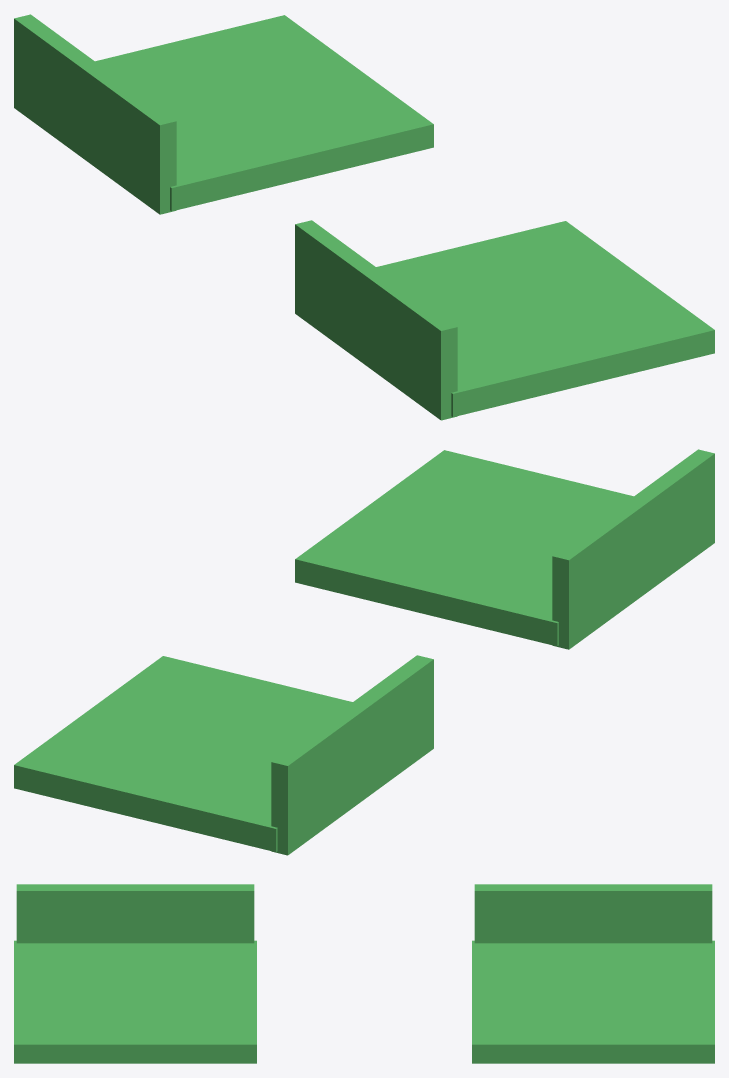
File: bridge_wood_broken_collision.glb
The picture shows the model from 3 angles, top to bottom: view 1: azimuth 30°, elevation 25°; view 2: azimuth 150°, elevation 25°; view 3: azimuth 270°, elevation 25°; orthographic projection. The views are drawn at different scales.
Visible parts, largest first — view 1: bridge_wood_broken_south_deck-col, bridge_wood_broken_north_deck-col, bridge_wood_broken_south_left_rail-col, bridge_wood_broken_north_left_rail-col; view 2: bridge_wood_broken_north_deck-col, bridge_wood_broken_south_deck-col, bridge_wood_broken_north_left_rail-col, bridge_wood_broken_south_left_rail-col; view 3: bridge_wood_broken_north_deck-col, bridge_wood_broken_south_deck-col, bridge_wood_broken_north_left_rail-col, bridge_wood_broken_south_left_rail-col.
Part boxes in pixels (left/top/right/bottom): bridge_wood_broken_south_deck-col: left=376, top=221, right=714, bottom=417; bridge_wood_broken_north_deck-col: left=95, top=15, right=433, bottom=211; bridge_wood_broken_south_left_rail-col: left=295, top=220, right=457, bottom=420; bridge_wood_broken_north_left_rail-col: left=14, top=14, right=176, bottom=214; bridge_wood_broken_north_deck-col: left=14, top=656, right=352, bottom=852; bridge_wood_broken_south_deck-col: left=295, top=450, right=633, bottom=646; bridge_wood_broken_north_left_rail-col: left=271, top=655, right=433, bottom=855; bridge_wood_broken_south_left_rail-col: left=552, top=449, right=714, bottom=649; bridge_wood_broken_north_deck-col: left=472, top=940, right=714, bottom=1063; bridge_wood_broken_south_deck-col: left=14, top=940, right=256, bottom=1063; bridge_wood_broken_north_left_rail-col: left=474, top=884, right=712, bottom=943; bridge_wood_broken_south_left_rail-col: left=16, top=884, right=254, bottom=943.
Size of the model in its own units: 2.93 by 0.92 by 8.02.
